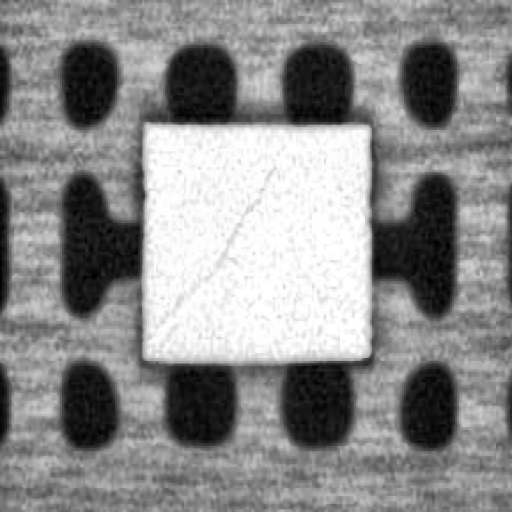DIE_CRACK: (150, 164, 274, 329)
